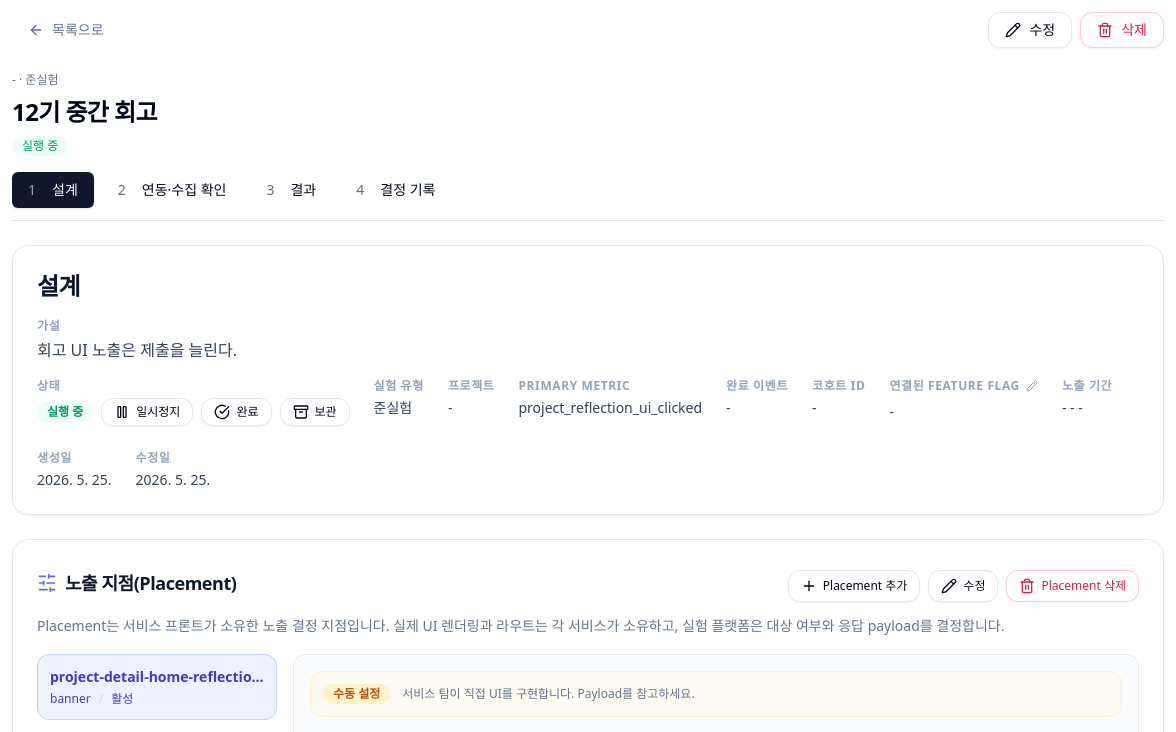
it: ExperimentDetail placements › deletes a placement after confirmation
The image size is (1176, 732).
Step 1. Click the button "Placement 삭제" → (1073, 586), box [1006,570,1139,602]
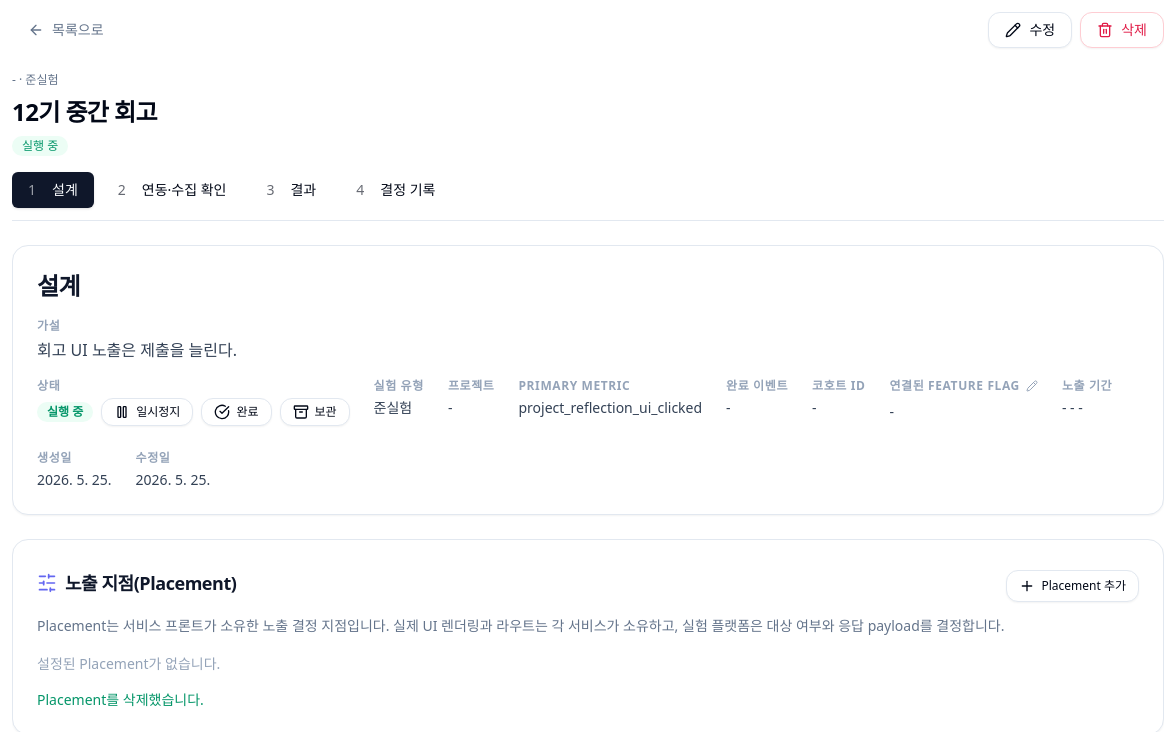
Result: the text "Placement를 삭제했습니다." is shown at [37,690,204,709]
